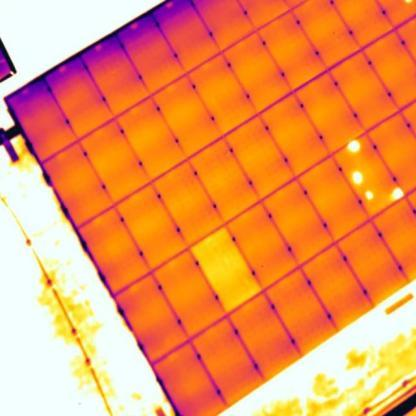anomaly: (194, 226, 261, 313), (343, 137, 365, 155), (350, 170, 365, 185), (393, 185, 406, 200), (364, 188, 373, 201)
